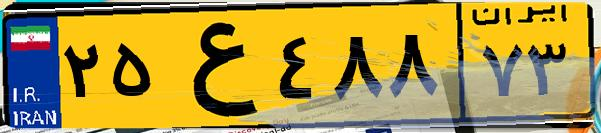2: (57, 26, 110, 100)
3: (525, 38, 570, 115)
4: (270, 28, 330, 110)
5: (110, 28, 158, 98)
7: (475, 38, 525, 113)
8: (385, 28, 445, 110), (330, 28, 385, 110)
ع: (158, 12, 270, 120)
